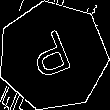P_S: (26, 26, 80, 86)
